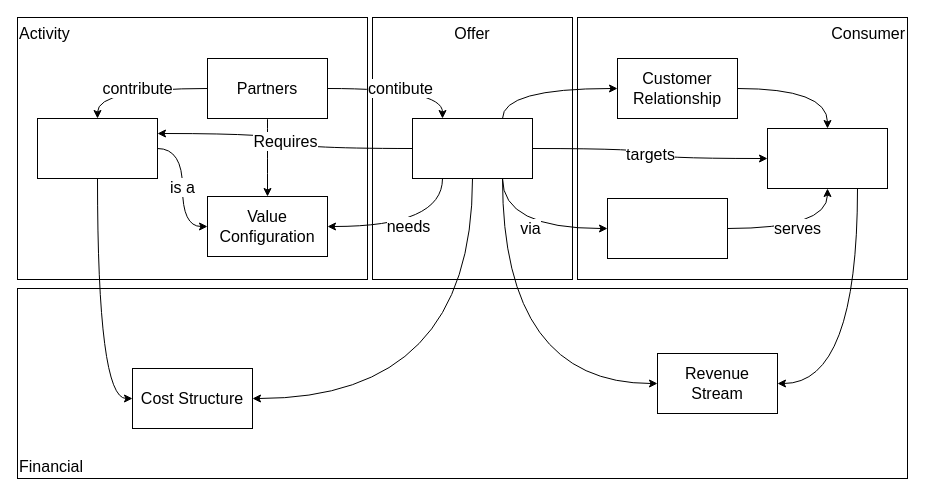
Some shapes in this 925 by 496 pixel diagram are drawn without their labels. Each missing label, with the centre of its shape:
"Core Capabilties" belongs at (97,148).
"Distribution Channel" belongs at (667,228).
"Target Customer" belongs at (827,158).
"Value Proposition" belongs at (472,148).
